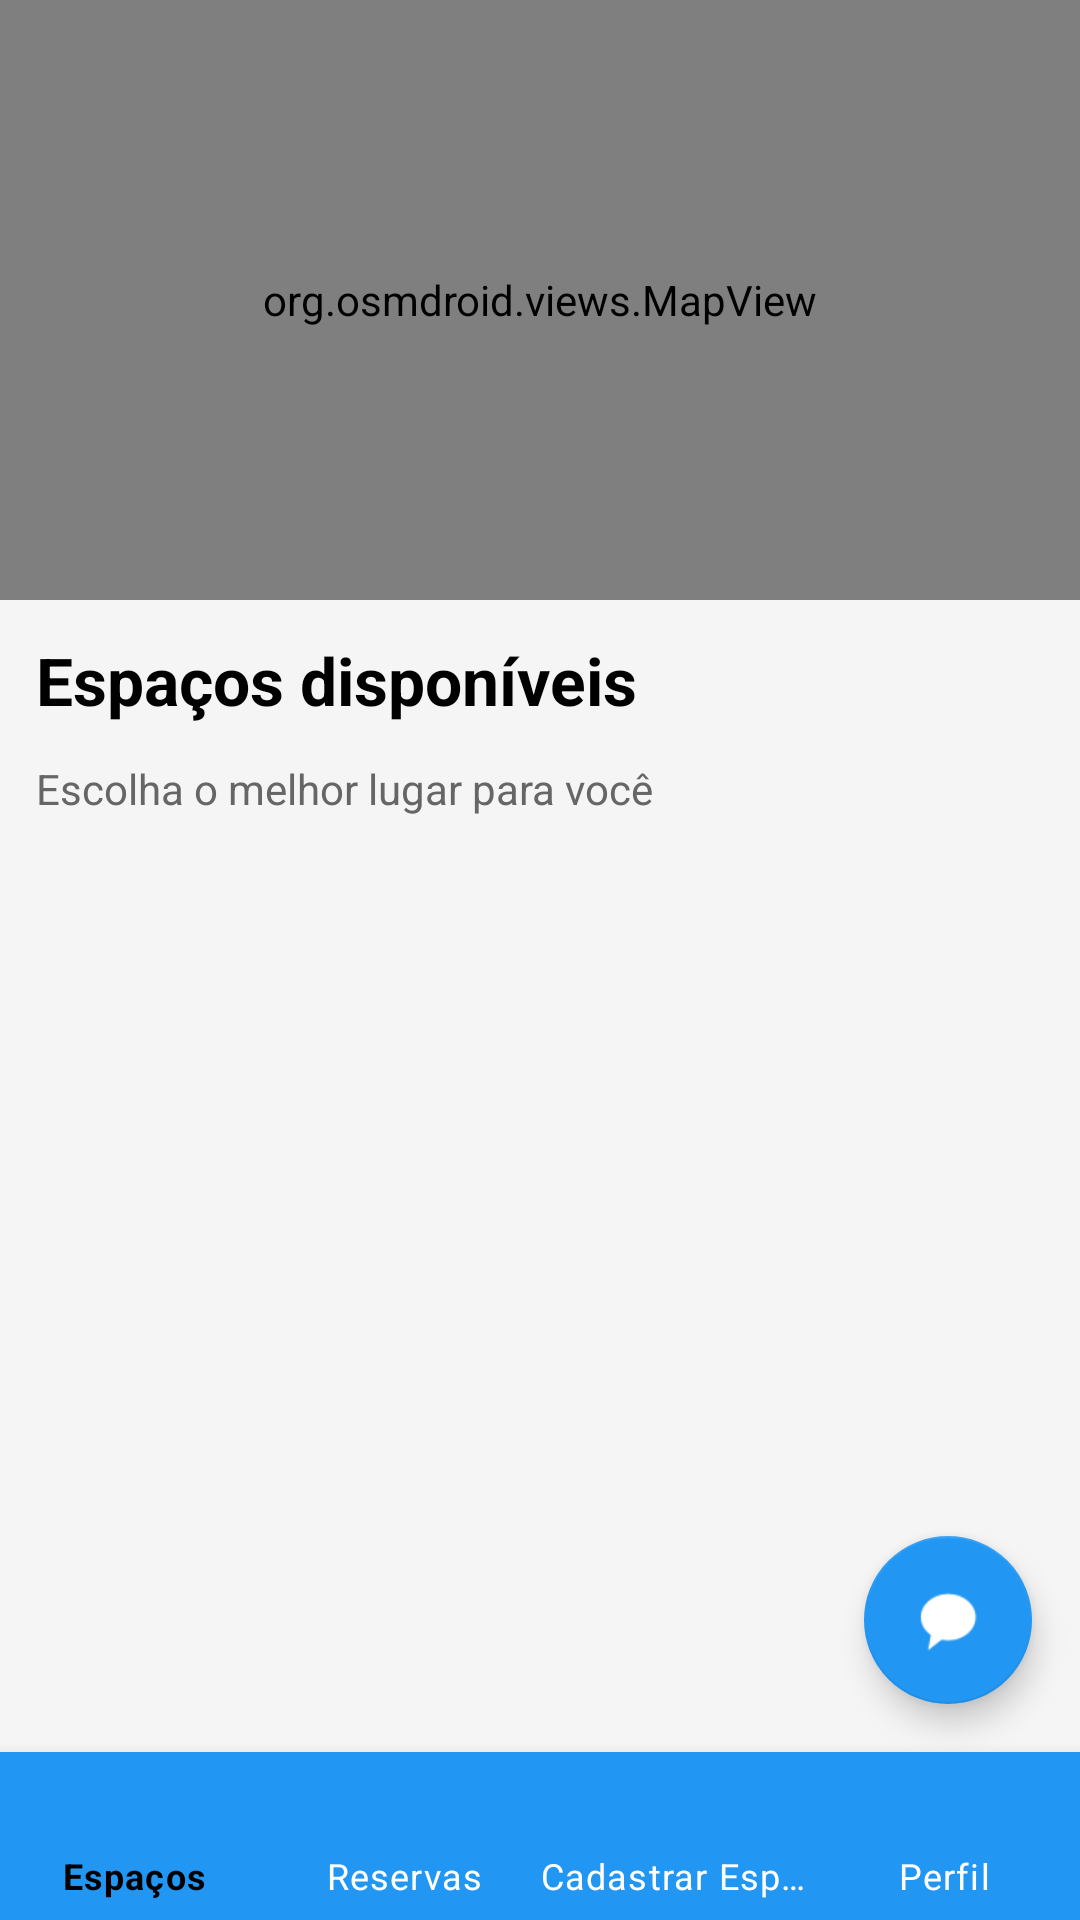

Screen size 1080×1920. Icon name, then its center in pixels as point (x, y):
Chatbot: point (948, 1620)
